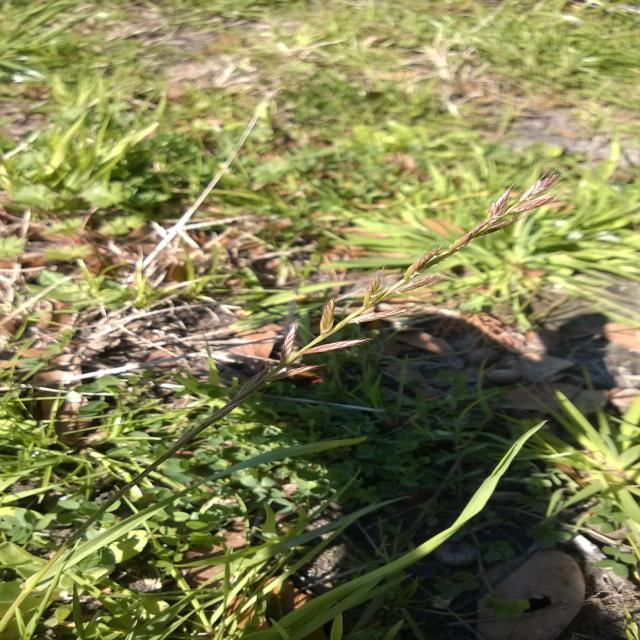Lolium: (7, 166, 631, 636)
